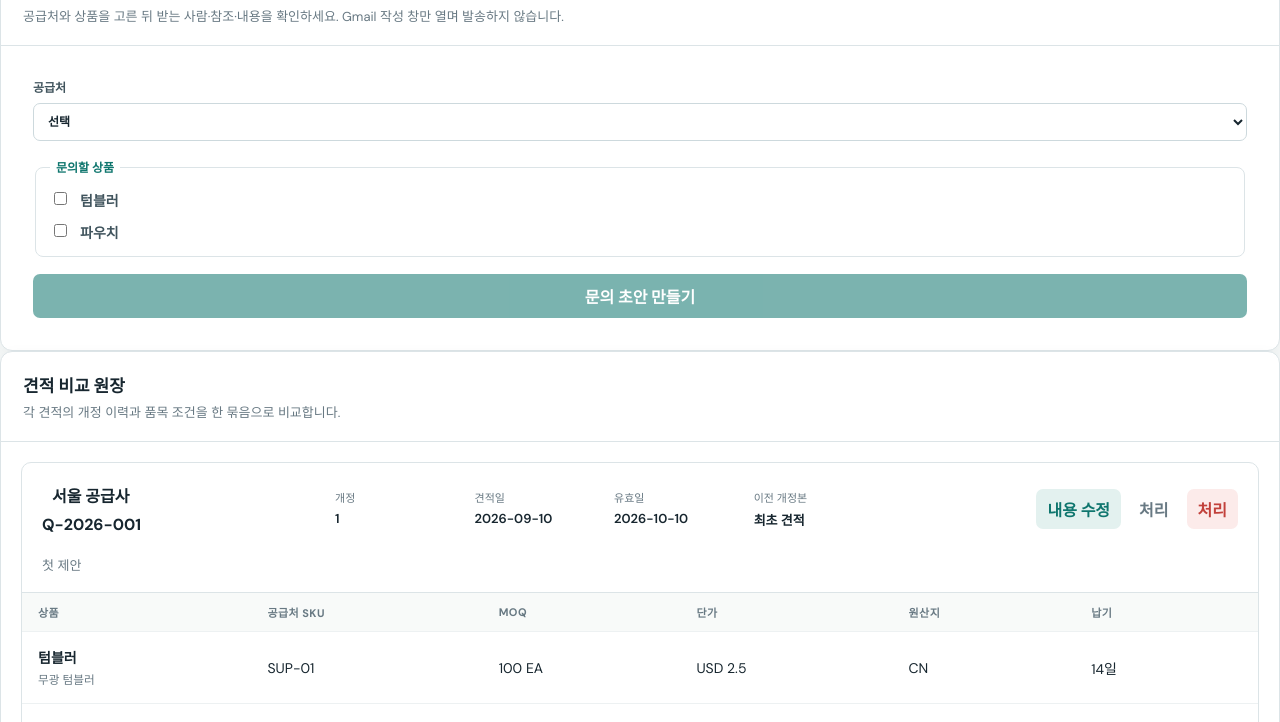
Test: DRAFT 수정은 기존 품목 행 전체와 optimistic-lock version을 보낸다
Later steps or results of the test are not shown.
(page scrolled)
Click the button "내용 수정". click: {"x": 1079, "y": 509}
box: [1036,489,1121,529]
(page scrolled)
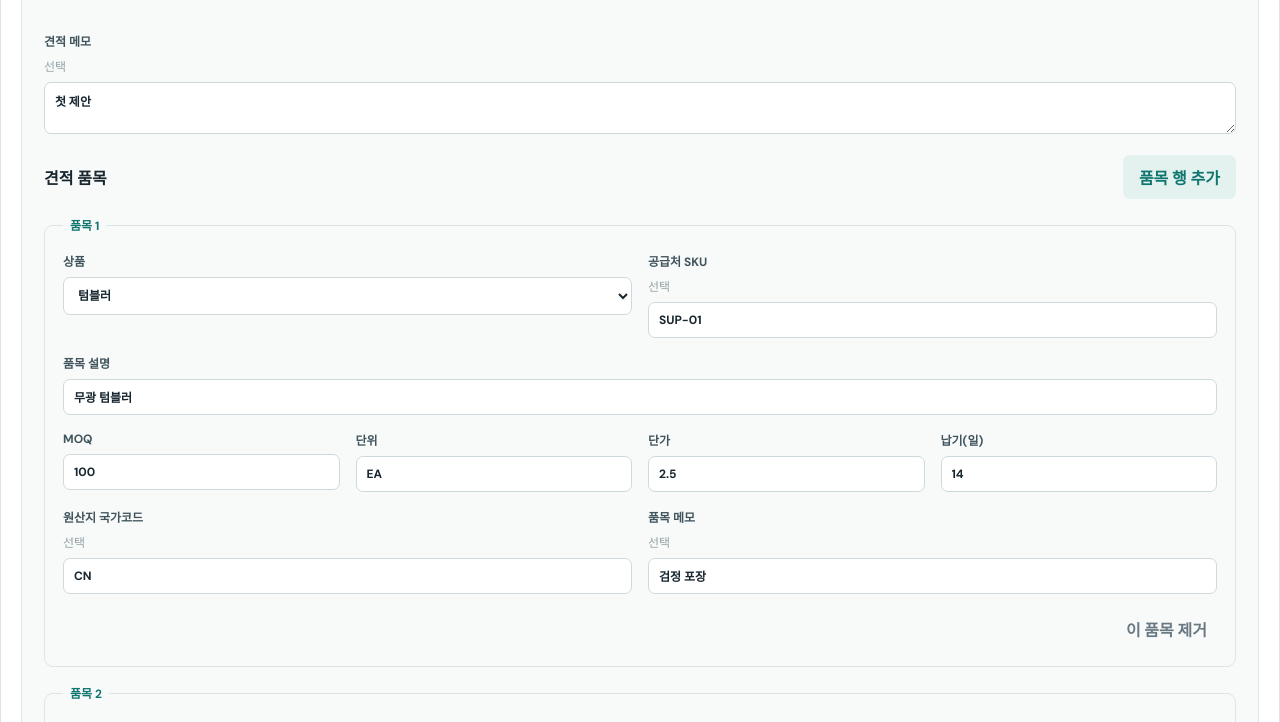
Result: the number of fields labelled "품목 설명" is 2
